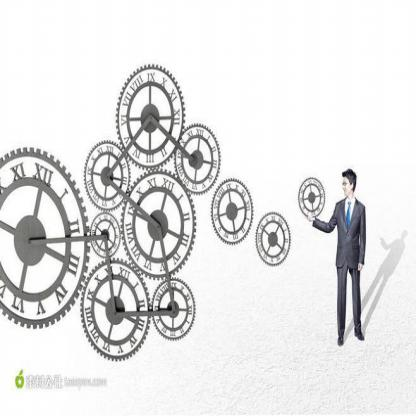FOD: (0, 146, 90, 331), (255, 208, 290, 269)
